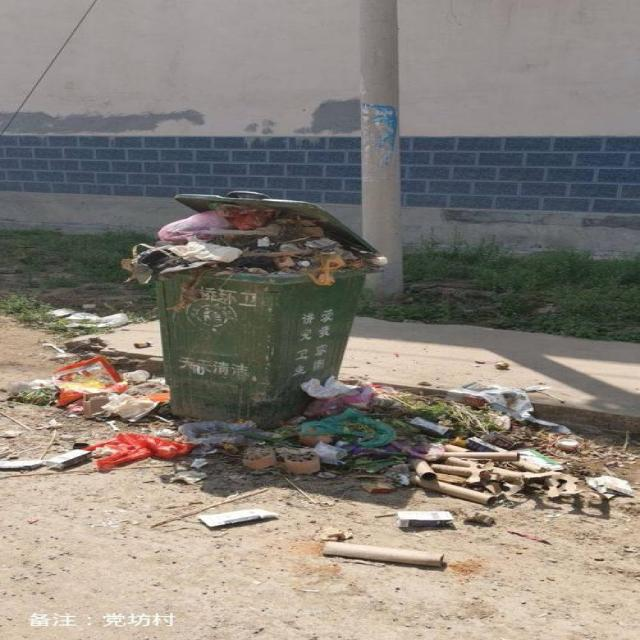garbage: (5, 357, 630, 565)
overflow: (121, 190, 382, 428)
